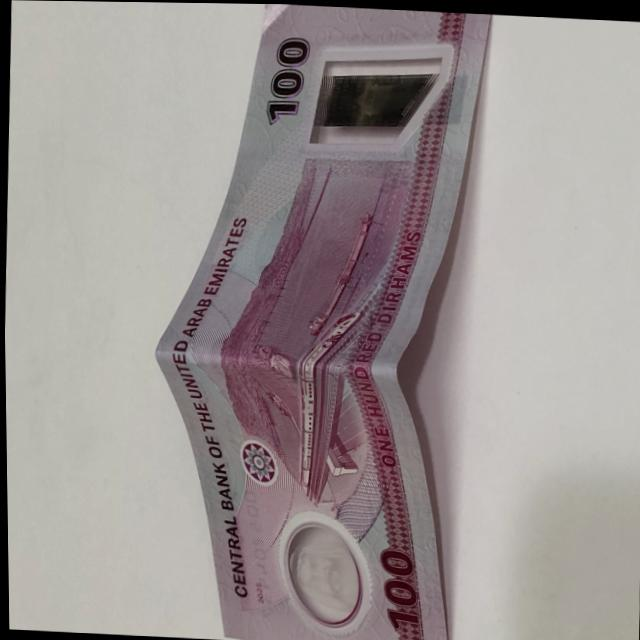100_AED: (152, 4, 490, 640)
